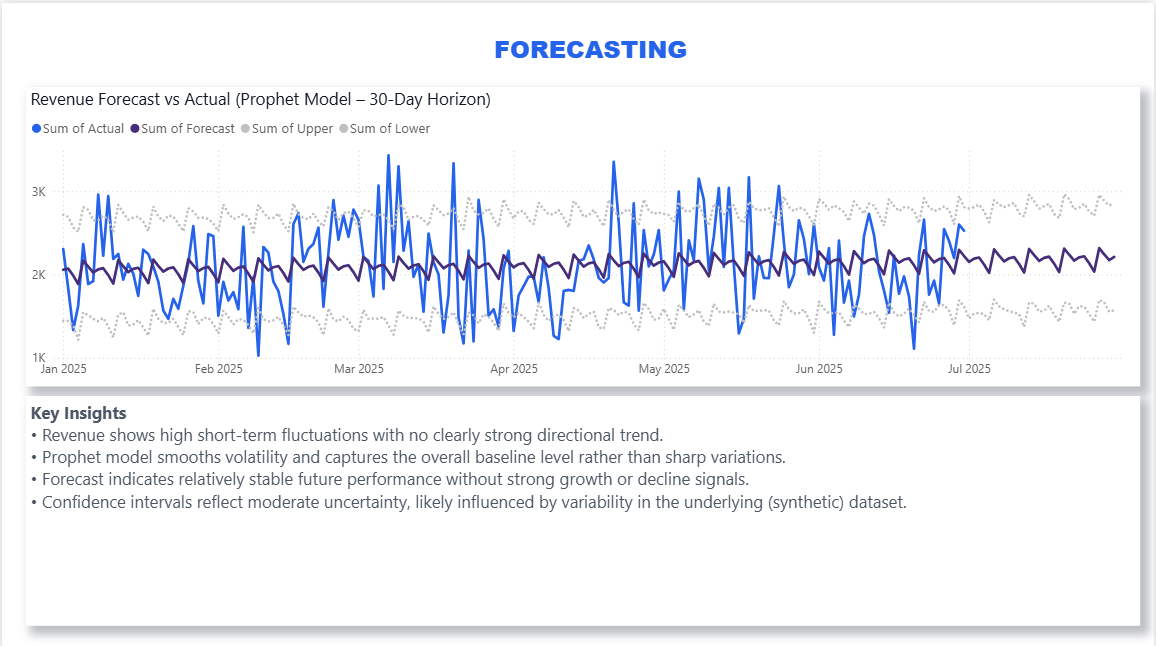

Layout of this report page (visuals, bound fields, positions):
{"tool":"powerbi","page":{"name":"Page 3_Forecasting","canvas":[1280,720],"ordinal":2},"visuals":[{"type":"textbox","box":[542.4,26.5,238.1,49.1],"z":0},{"type":"lineChart","title":"Revenue Forecast vs Actual (Prophet Model – 30-Day Horizon)","fields":{"Y":["Sum(Forecast_Actual.Actual)","Sum(Forecast_Actual.Forecast)1","Sum(Forecast_Actual.Upper)","Sum(Forecast_Actual.Lower)"],"Category":["Forecast_Actual.Date"]},"box":[26.5,92.6,1237.8,332.6],"z":1000},{"type":"textbox","box":[26.5,436.5,1237.8,255.1],"z":1001}]}

Visuals, with their boxes in screenshot pixels (x1, y1, x2, y2), scaled from the page's 1280x720 canvas onto the 1156x646 screenshot:
textbox: [left=490, top=24, right=705, bottom=68]
"Revenue Forecast vs Actual (Prophet Model – 30-Day Horizon)" lineChart: [left=24, top=83, right=1142, bottom=381]
textbox: [left=24, top=392, right=1142, bottom=621]
